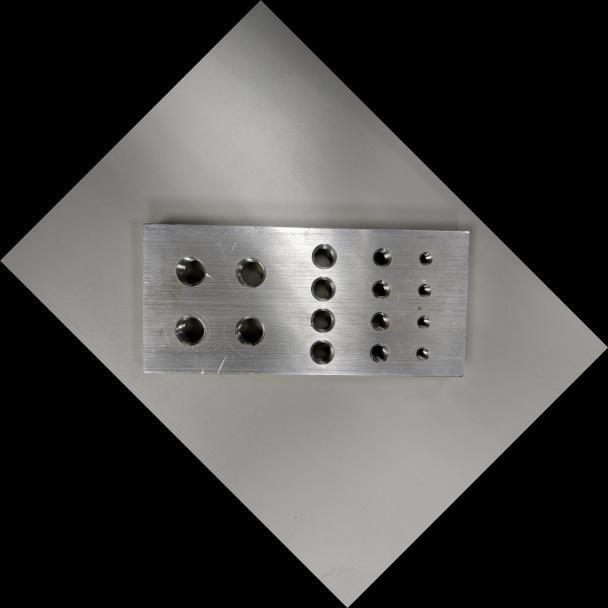hole: (227, 250, 273, 295), (227, 308, 272, 353), (167, 308, 212, 353), (168, 249, 213, 293), (305, 237, 343, 275), (302, 333, 340, 370), (304, 301, 341, 339), (304, 270, 341, 307), (364, 338, 394, 368), (365, 306, 395, 336), (366, 274, 396, 304), (367, 243, 396, 272), (414, 247, 436, 269), (413, 280, 435, 301), (412, 343, 432, 364), (413, 312, 433, 332)
